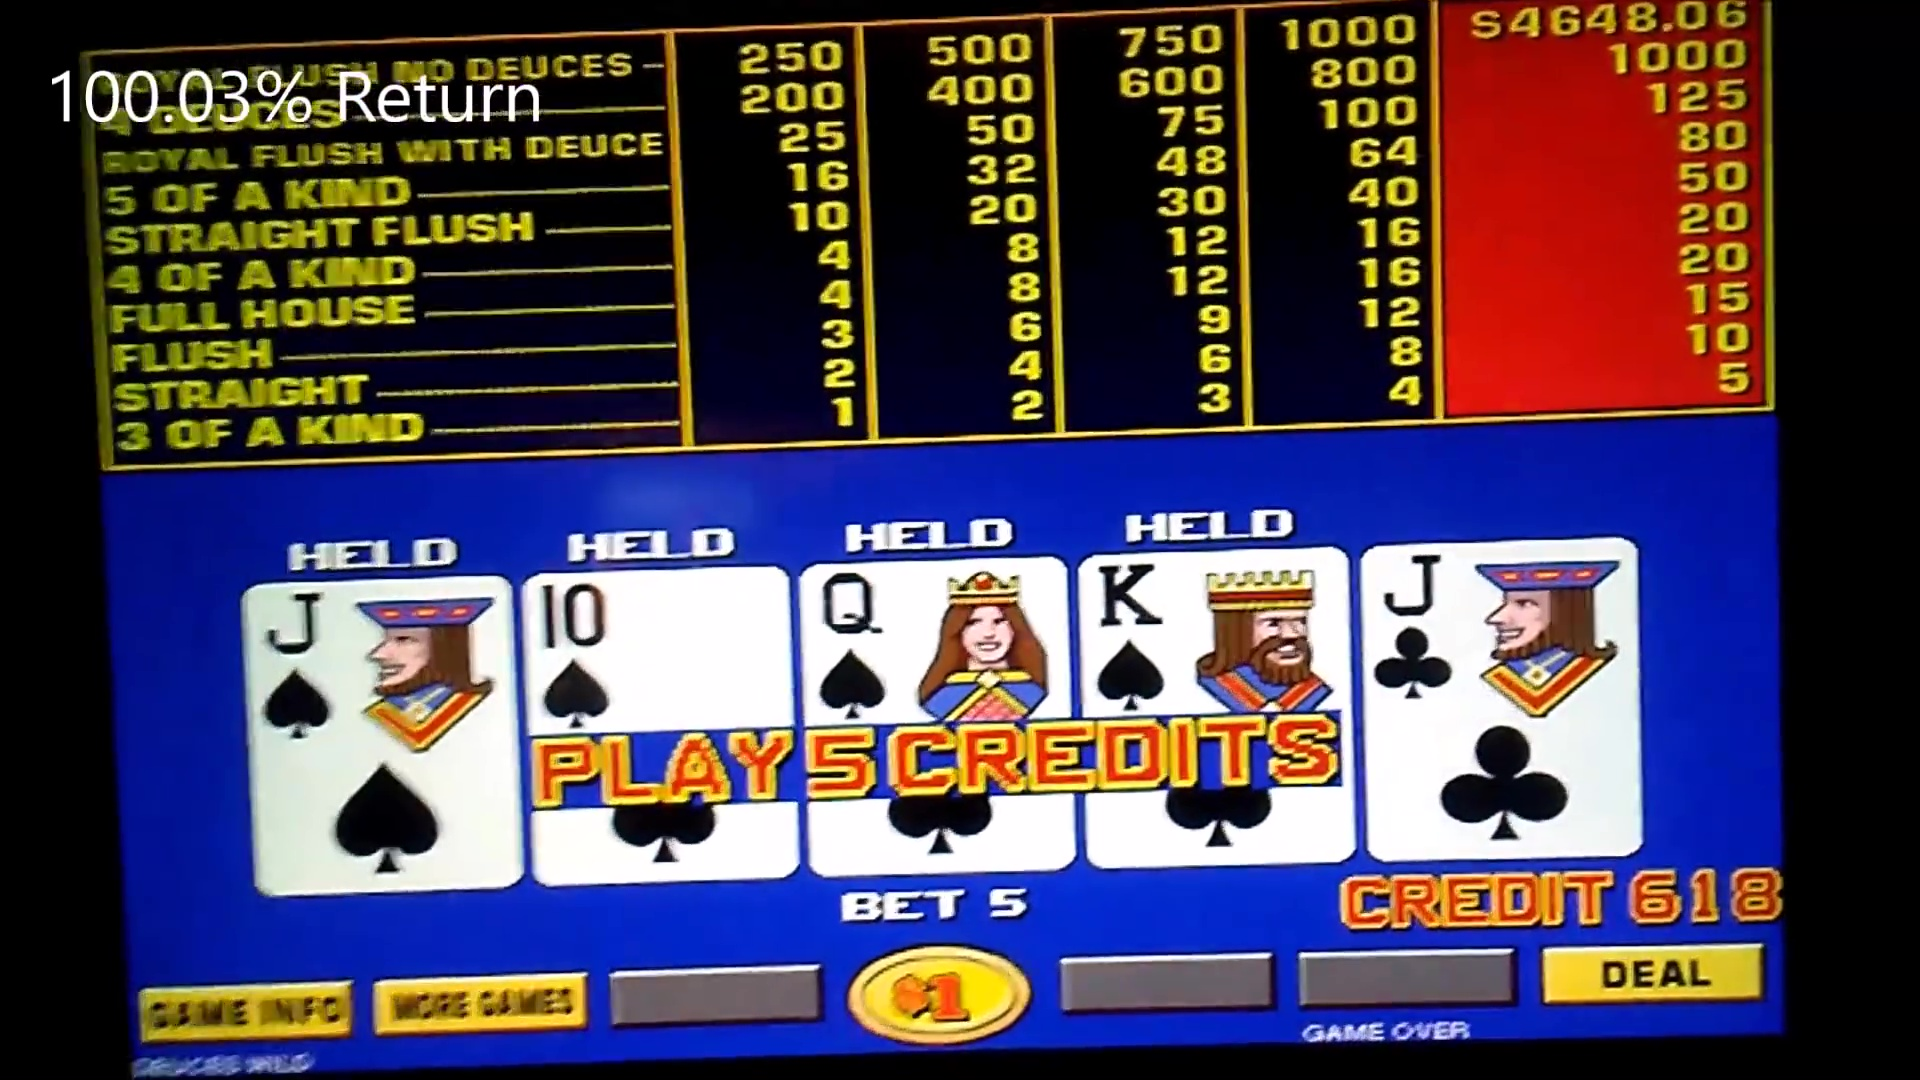CJ: (1364, 541, 1633, 731)
SJ: (244, 585, 516, 754)
SK: (1079, 556, 1342, 703)
SQ: (798, 563, 1065, 712)
ST: (521, 578, 791, 720)
